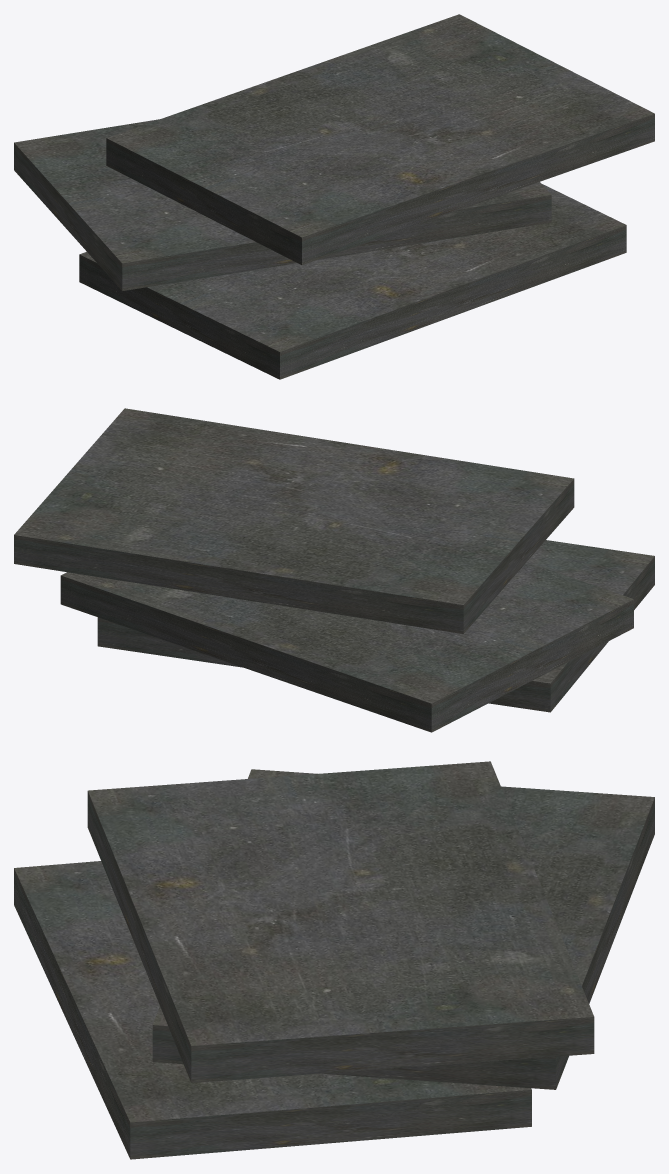
Rendered from pickup_lists.FBX.
The picture shows the model from 3 angles, top to bottom: view 1: azimuth 30°, elevation 25°; view 2: azimuth 150°, elevation 25°; view 3: azimuth 270°, elevation 25°; orthographic projection. The views are drawn at different scales.
Visible parts, largest first — view 1: Lists; view 2: Lists; view 3: Lists.
Part boxes in pixels (bbox=[...]): Lists: bbox=[14, 14, 654, 379]; Lists: bbox=[14, 408, 654, 732]; Lists: bbox=[14, 761, 654, 1159].
Size of the model in its own units: 38.51 by 7.93 by 31.35.
1 material, 1 textured.
